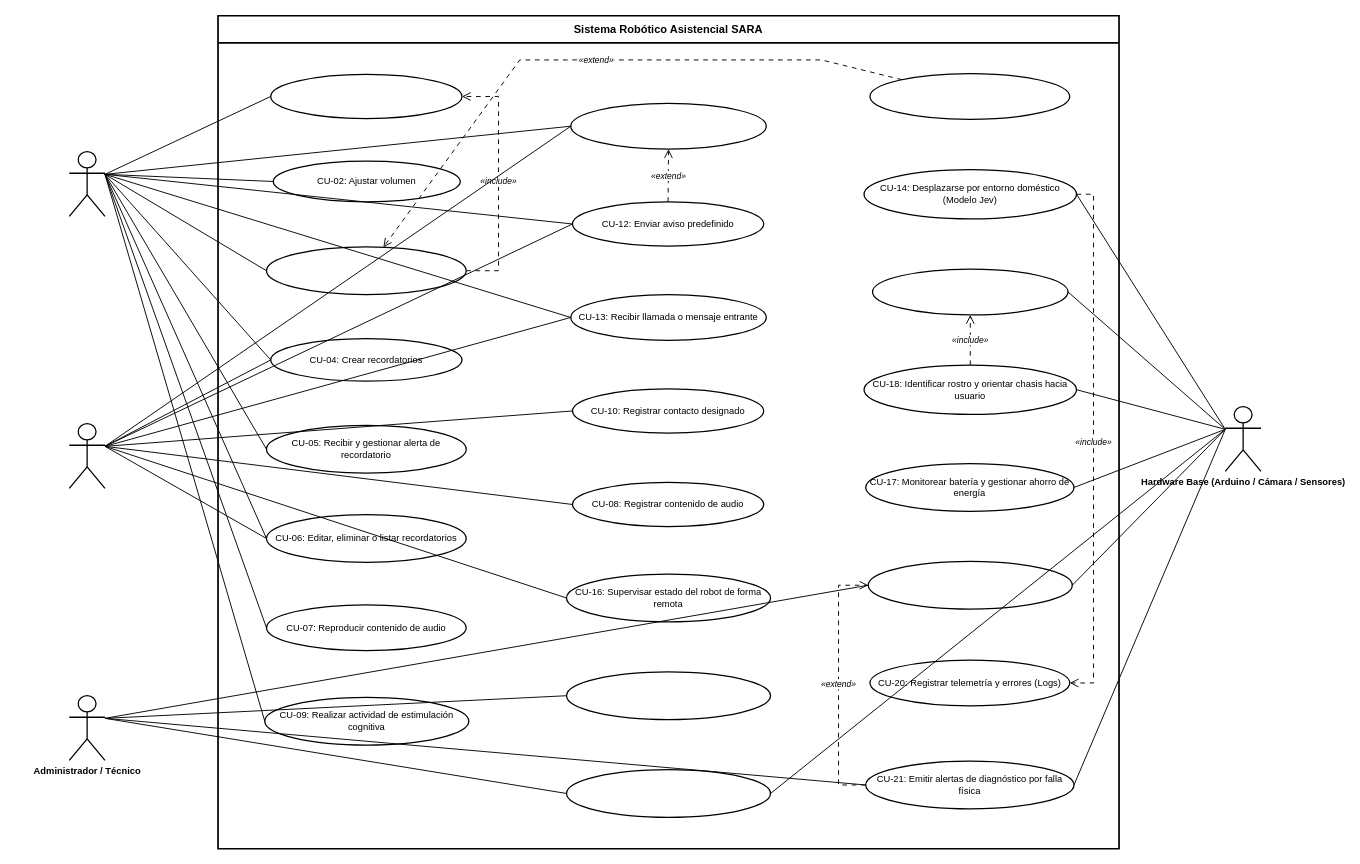
Some shapes in this 1360 by 864 pixel diagram are drawn without their labels. The shapes that lost their labels are listed below. From the top down, each one's centre as x and y in pixels, then its label:
At (366,96): "CU-01: Ejecutar comando de voz".
At (969,96): "CU-24: Operar en modo de emergencia (Offline)".
At (668,125): "CU-11: Llamar a contacto designado".
At (86,184): "Adulto Mayor (Usuario Principal)".
At (365,270): "CU-03: Mantener conversación cotidiana".
At (970,291): "CU-15: Detectar presencia de usuario".
At (86,456): "Familiar / Cuidador".
At (970,584): "CU-19: Inicializar periféricos y comunicación base".
At (668,695): "CU-22: Consultar y exportar registros y diagnósticos".
At (668,793): "CU-23: Ajustar parámetros de tracción y sensores".
